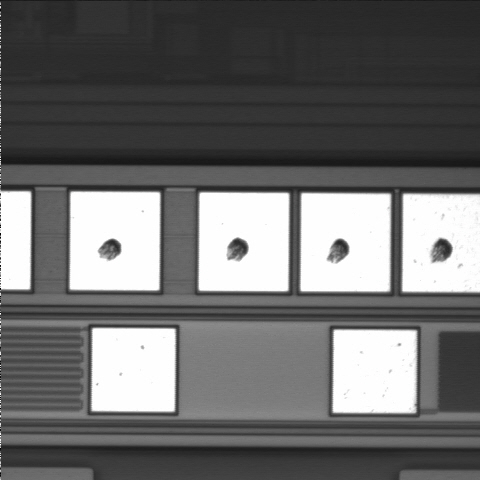pad: (70, 192, 160, 290), (199, 193, 289, 291), (301, 193, 390, 292), (92, 328, 175, 412), (333, 330, 416, 413)
